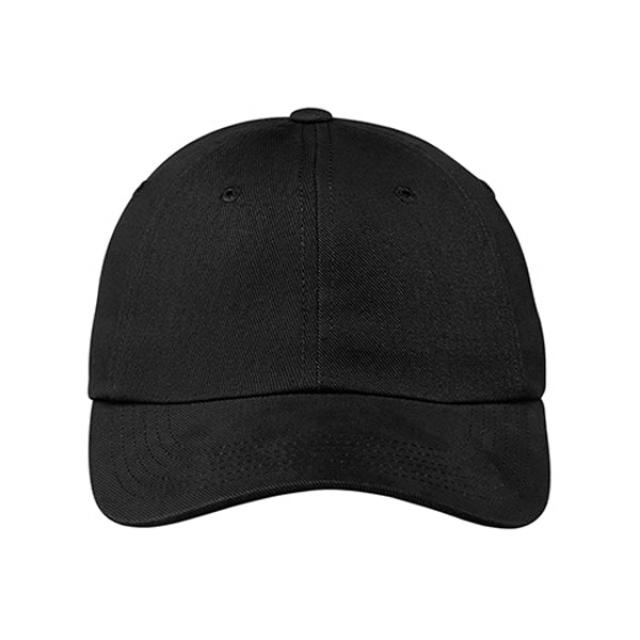mask: (74, 96, 575, 552)
